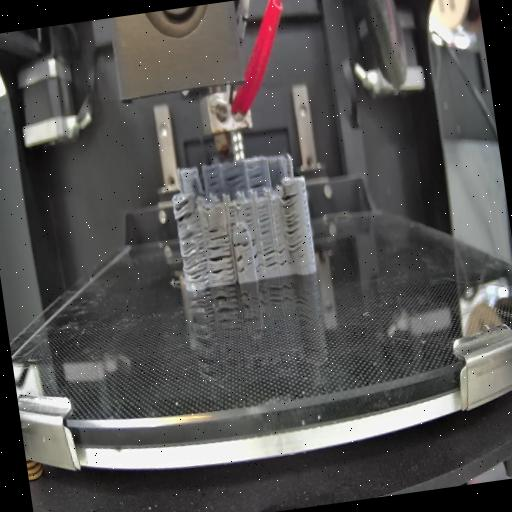cracks: (180, 230, 211, 282), (281, 193, 304, 252), (206, 242, 236, 282), (256, 204, 274, 239), (246, 166, 268, 191), (262, 243, 278, 273), (252, 237, 264, 276), (172, 201, 194, 222), (224, 171, 246, 187), (210, 226, 230, 243), (278, 244, 290, 270), (244, 206, 256, 231), (226, 206, 240, 226), (206, 170, 220, 188), (236, 255, 248, 275), (233, 238, 250, 250), (238, 228, 250, 236)
